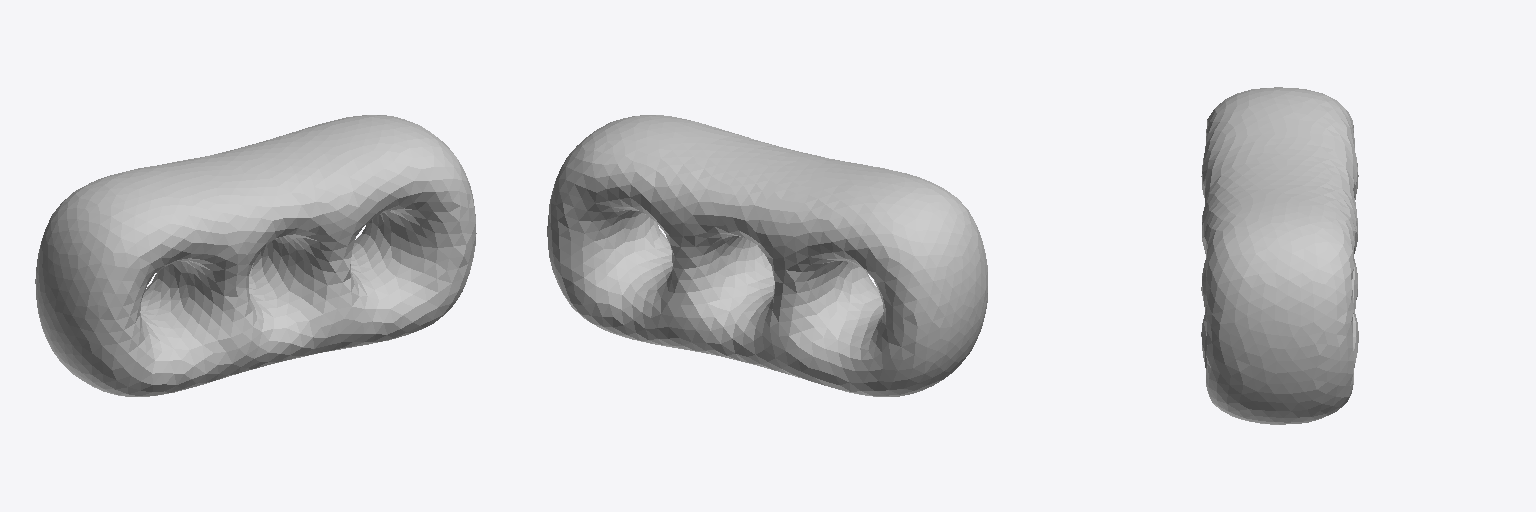
File: 3holes.obj
3 renders of one model, left to right at view 1: azimuth 30°, elevation 25°; view 2: azimuth 150°, elevation 25°; view 3: azimuth 270°, elevation 25°, orthographic.
Size of the model in its own units: 0.9955 by 0.4631 by 0.3327.